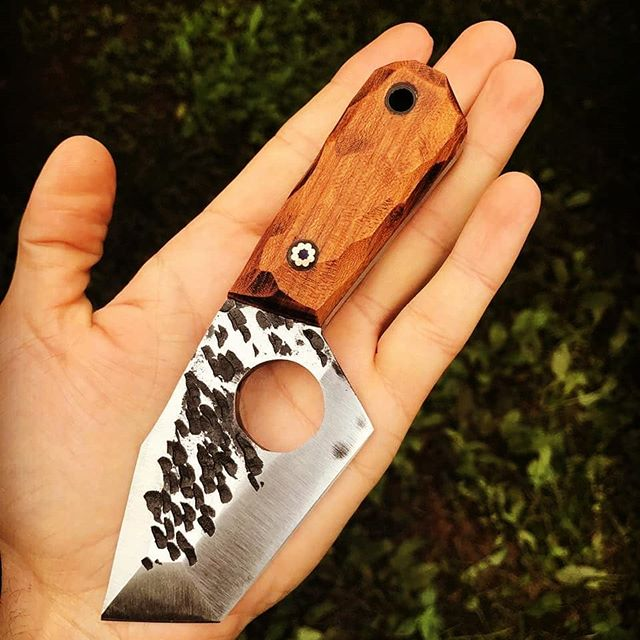knife: (101, 60, 468, 623)
